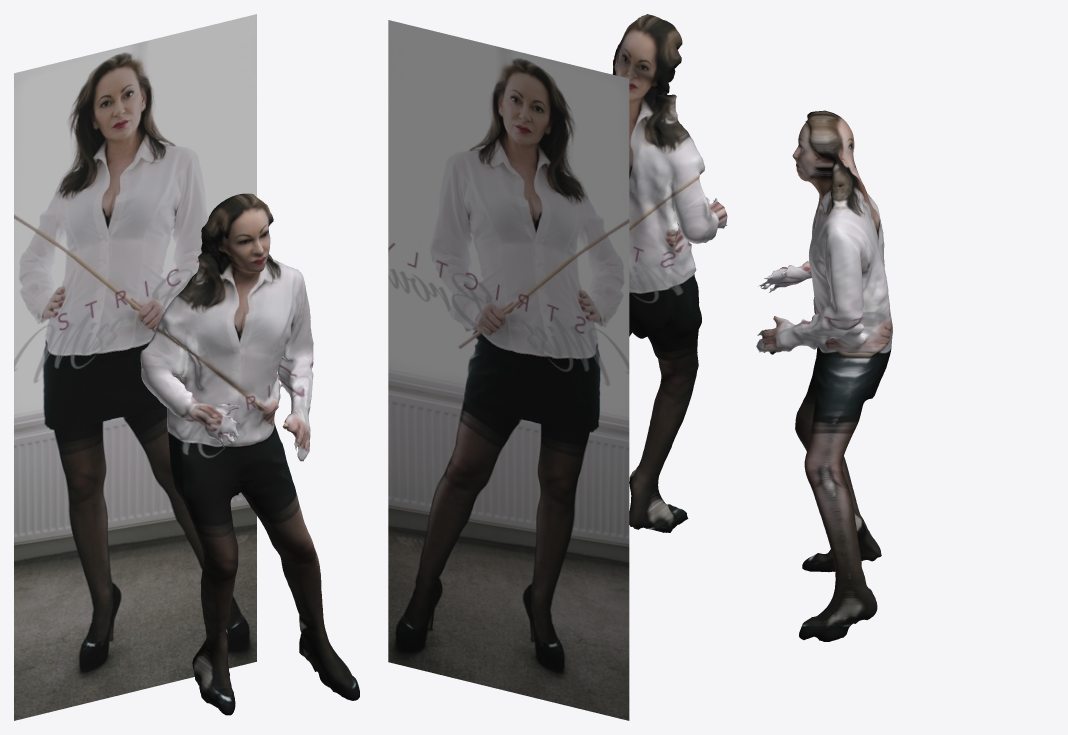
File: smb2.glb
The picture shows the model from 3 angles, left to right: view 1: azimuth 30°, elevation 25°; view 2: azimuth 150°, elevation 25°; view 3: azimuth 270°, elevation 25°; orthographic projection. The views are drawn at different scales.
Visible parts, largest first — view 1: IMG_0816, tmp9yyi8gw2_refine; view 2: IMG_0816, tmp9yyi8gw2_refine; view 3: tmp9yyi8gw2_refine.
Boxes of the visible parts, x1,y1,x2,y2 form: IMG_0816: (14, 14, 256, 720); tmp9yyi8gw2_refine: (140, 193, 359, 715); IMG_0816: (388, 20, 629, 720); tmp9yyi8gw2_refine: (612, 14, 727, 532); tmp9yyi8gw2_refine: (756, 110, 892, 641).
Bounding box in the file's own units: 0.8605 × 2.19 × 0.9898.
Materials: 1 (1 with a texture image).
